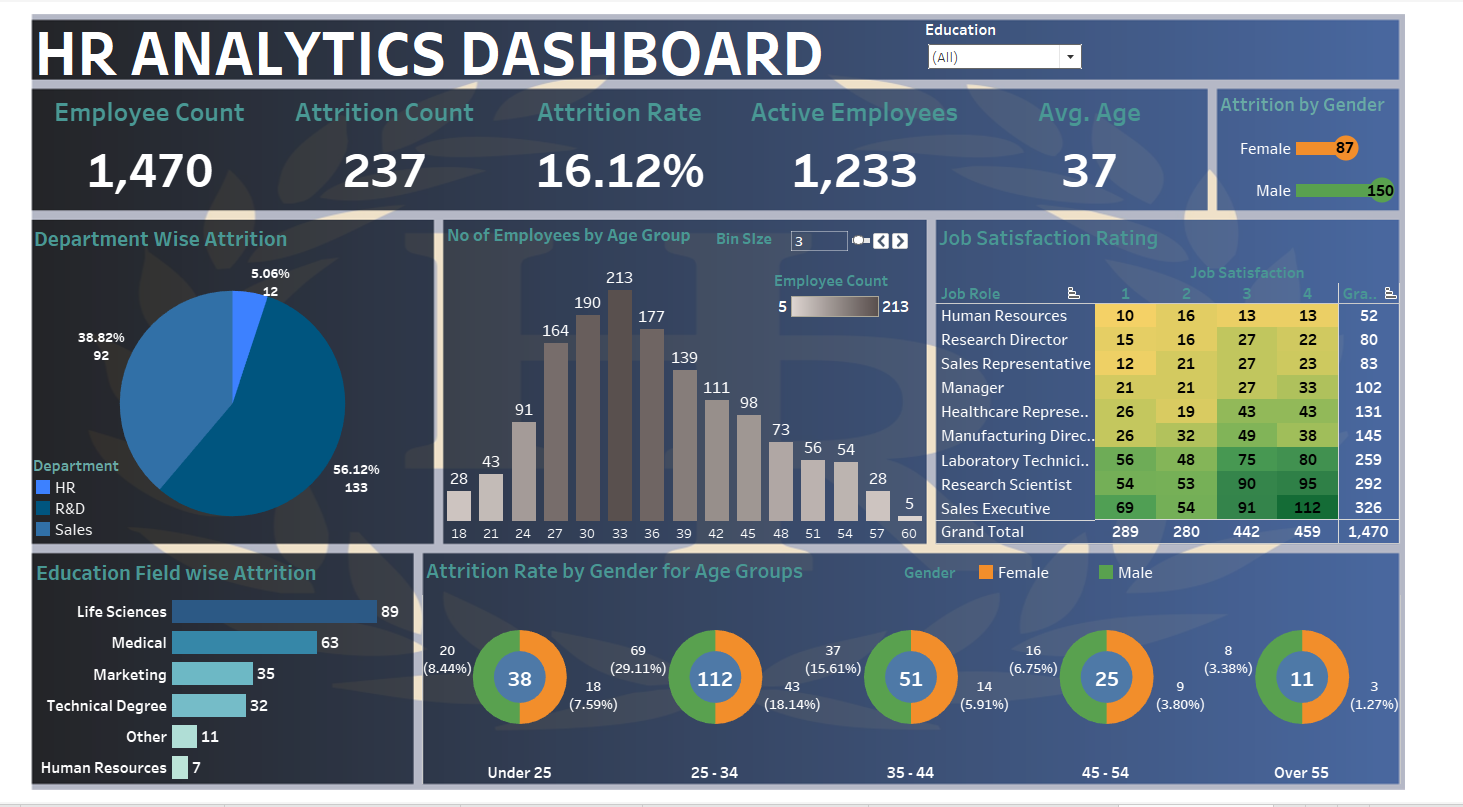

The dashboard page shown, as its layout file describes it:
{"tool":"tableau","page":{"name":"HR DASHBOARD","canvas":[1580,800],"ordinal":0},"visuals":[{"type":"image","param":"Image/HR background.pptx.png","box":[8,8,1564,784]},{"type":"filter","title":"Department Wise Attrition","param":"[federated.00pkuhr0501jum1c5wg961jxlzh6].[none:Education:nk]","box":[999,17,160,58]},{"type":"text","box":[105,18,804,60]},{"type":"worksheet","title":"Attrition by Gender","mark":"Automatic","rows":["Gender"],"cols":["Calculation_1229201274276823040","Calculation_1229201274276823040"],"box":[1290,85,183,124]},{"type":"worksheet","title":"KPI","mark":"Automatic","box":[106,86,1175,120]},{"type":"worksheet","title":"No of Employees by Age Group","mark":"Automatic","rows":["Employee Count"],"cols":["Age (bin)"],"box":[517,217,483,324]},{"type":"worksheet","title":"Job Satisfaction Rating","mark":"Square","rows":["Job Role"],"cols":["Job Satisfaction"],"box":[1009,217,465,326]},{"type":"worksheet","title":"Department Wise Attrition","mark":"Pie","box":[104,218,405,325]},{"type":"parameter","param":"[Parameters].[Parameter 1]","box":[790,226,195,33]},{"type":"legend","title":"No of Employees by Age Group","param":"[federated.00pkuhr0501jum1c5wg961jxlzh6].[sum:Employee Count:qk]","box":[848,268,140,88]},{"type":"legend","title":"Department Wise Attrition","param":"[federated.00pkuhr0501jum1c5wg961jxlzh6].[none:Department:nk]","box":[107,453,111,85]},{"type":"worksheet","title":"Attrition Rate by Gender for Age Groups","mark":"Pie","rows":["Calculation_1229201274347241476","Calculation_1229201274347241476"],"cols":["CF_age band"],"box":[496,550,979,233]},{"type":"worksheet","title":"Education Field wise Attrition","mark":"Automatic","rows":["Education Field"],"cols":["Calculation_1229201274276823040"],"box":[106,552,382,229]},{"type":"legend","title":"Attrition Rate by Gender for Age Groups","param":"[federated.00pkuhr0501jum1c5wg961jxlzh6].[none:Gender:nk]","box":[978,560,405,40]}]}

Visuals, with their boxes in screenshot pixels (x1, y1, x2, y2):
image: {"x1": 0, "y1": 12, "x2": 1462, "y2": 781}
"Department Wise Attrition" filter: {"x1": 908, "y1": 20, "x2": 1065, "y2": 77}
text: {"x1": 31, "y1": 21, "x2": 820, "y2": 80}
"Attrition by Gender" worksheet: {"x1": 1194, "y1": 87, "x2": 1373, "y2": 209}
"KPI" worksheet: {"x1": 32, "y1": 88, "x2": 1185, "y2": 206}
"No of Employees by Age Group" worksheet: {"x1": 435, "y1": 217, "x2": 909, "y2": 535}
"Job Satisfaction Rating" worksheet (Square marks): {"x1": 918, "y1": 217, "x2": 1374, "y2": 537}
"Department Wise Attrition" worksheet (Pie marks): {"x1": 30, "y1": 218, "x2": 427, "y2": 537}
parameter: {"x1": 703, "y1": 226, "x2": 894, "y2": 258}
"No of Employees by Age Group" legend: {"x1": 760, "y1": 267, "x2": 897, "y2": 353}
"Department Wise Attrition" legend: {"x1": 33, "y1": 448, "x2": 142, "y2": 532}
"Attrition Rate by Gender for Age Groups" worksheet (Pie marks): {"x1": 414, "y1": 544, "x2": 1375, "y2": 772}
"Education Field wise Attrition" worksheet: {"x1": 32, "y1": 546, "x2": 407, "y2": 770}
"Attrition Rate by Gender for Age Groups" legend: {"x1": 888, "y1": 553, "x2": 1285, "y2": 593}
